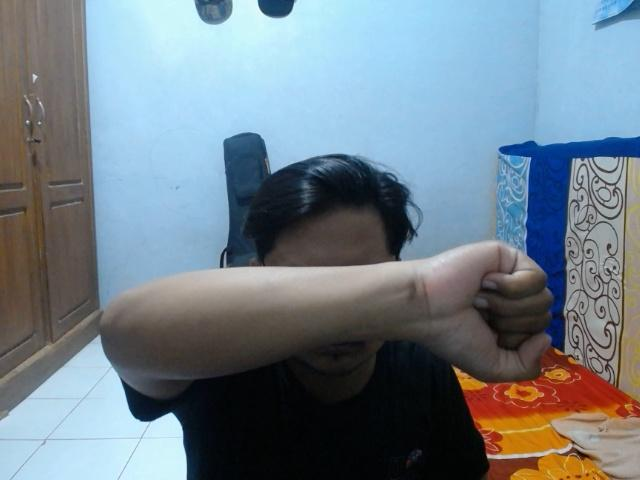Grab: (416, 230, 557, 390)
